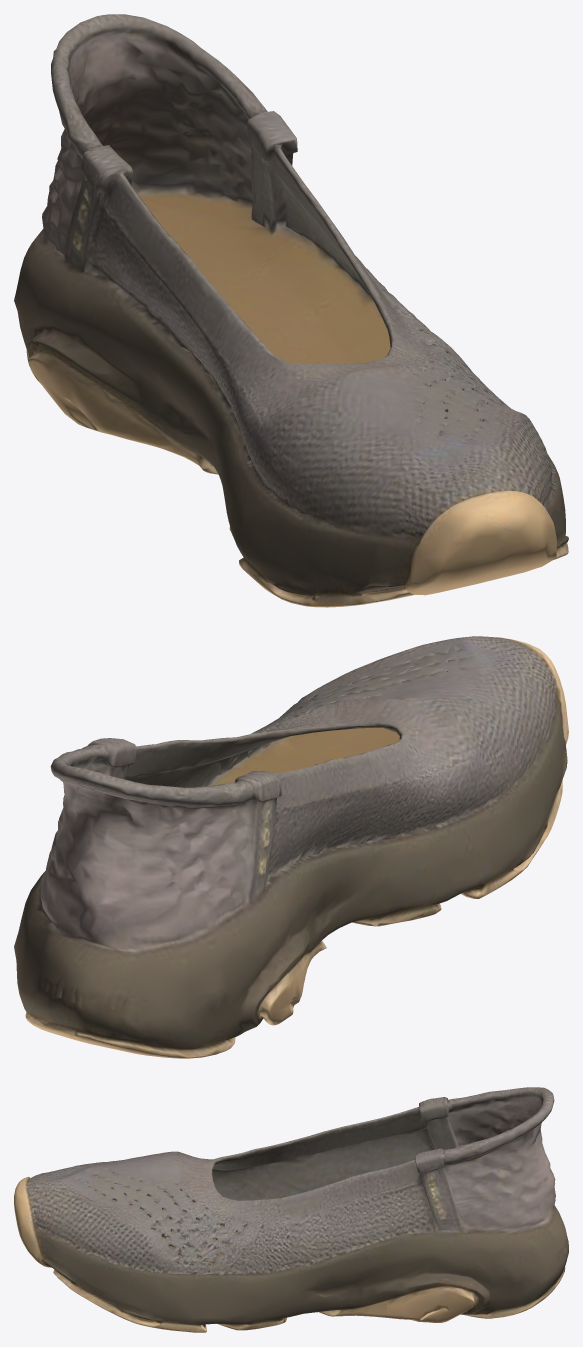
File: begin-walk-grace-for-women-goat.glb
The picture shows the model from 3 angles, top to bottom: view 1: azimuth 30°, elevation 25°; view 2: azimuth 150°, elevation 25°; view 3: azimuth 270°, elevation 25°; orthographic projection. The views are drawn at different scales.
Visible parts, largest first — view 1: tripo_node_c3dc4479-16cb-4fb3-b200-ffd3805ab4d1; view 2: tripo_node_c3dc4479-16cb-4fb3-b200-ffd3805ab4d1; view 3: tripo_node_c3dc4479-16cb-4fb3-b200-ffd3805ab4d1.
Part boxes in pixels (x1,y1,x2,y2): tripo_node_c3dc4479-16cb-4fb3-b200-ffd3805ab4d1: [14, 14, 568, 607]; tripo_node_c3dc4479-16cb-4fb3-b200-ffd3805ab4d1: [14, 636, 568, 1058]; tripo_node_c3dc4479-16cb-4fb3-b200-ffd3805ab4d1: [14, 1087, 568, 1332].
Size of the model in its own units: 0.3832 by 0.3887 by 1.
1 material, 1 textured.
